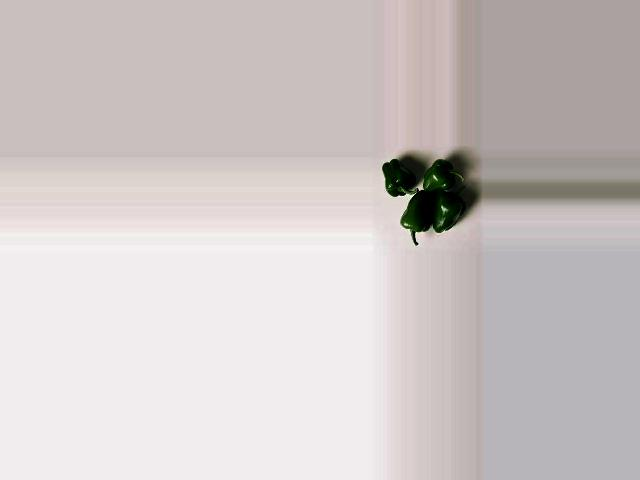bell_pepper: (420, 159, 462, 189)
